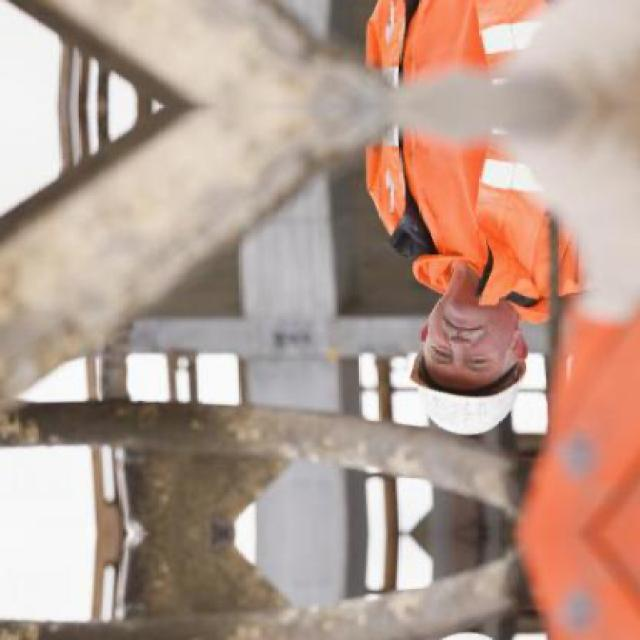con casco: (392, 278, 586, 464)
